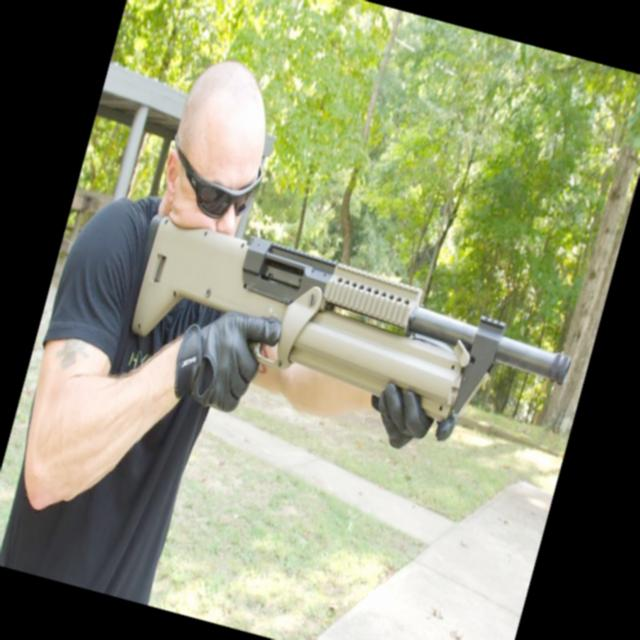shotgun: (108, 196, 587, 466)
